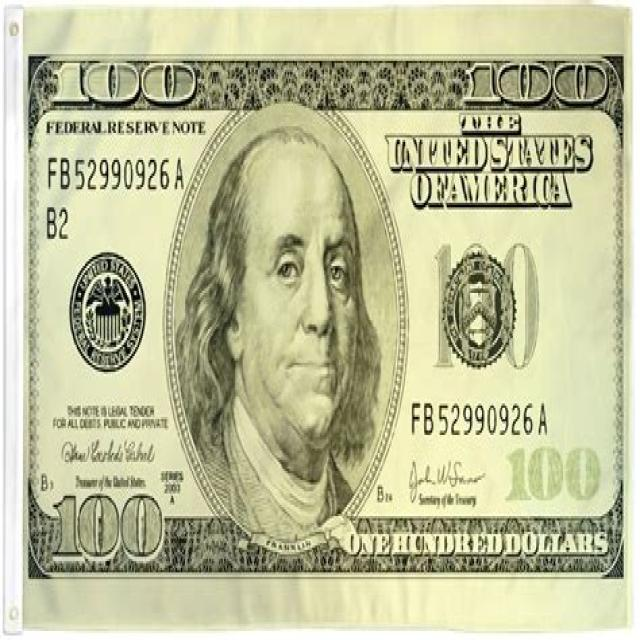Hundred: (25, 48, 630, 581)
